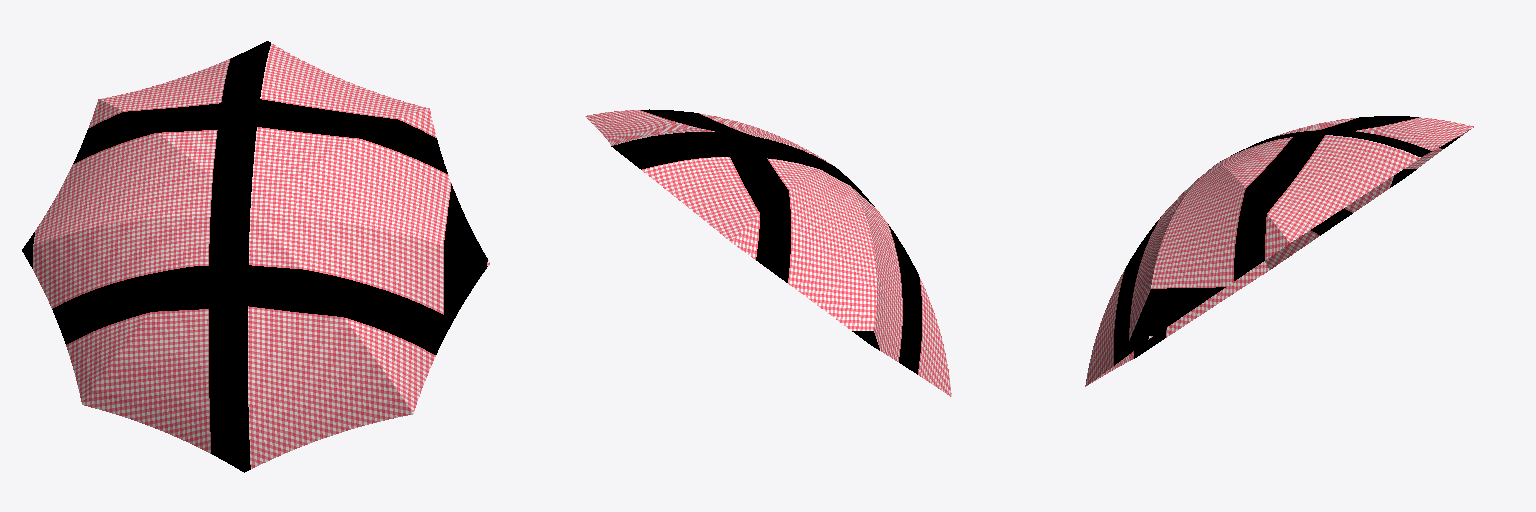
3 views of the same model, side by side, from view 1: azimuth 30°, elevation 25°; view 2: azimuth 150°, elevation 25°; view 3: azimuth 270°, elevation 25° (orthographic).
Parts seen in each view (by area): view 1: Object_4_Mesh_1; view 2: Object_4_Mesh_1; view 3: Object_4_Mesh_1.
Part boxes in pixels (x1,y1,x2,y2): Object_4_Mesh_1: (22,41,489,472); Object_4_Mesh_1: (585,109,951,396); Object_4_Mesh_1: (1085,116,1473,386).
Size of the model in its own units: 11.08 by 8.49 by 10.45.
1 materials, 1 textured.